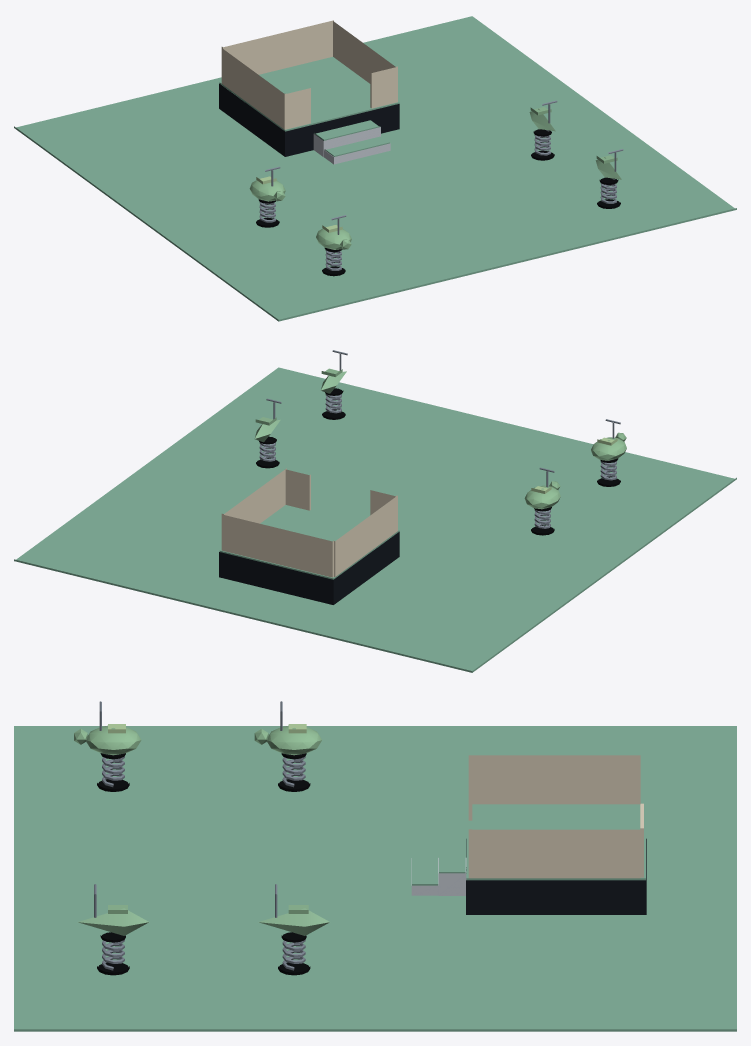
3 views of the same model, one above another, from view 1: azimuth 30°, elevation 25°; view 2: azimuth 150°, elevation 25°; view 3: azimuth 270°, elevation 25° (orthographic). The views are drawn at different scales.
Parts seen in each view (by area): view 1: Safety_Pad, Deck_Guards, Deck_Top, Toddler_Deck, Deck_Steps, Step_Treads, Rider1_Body, Rider3_Body; view 2: Safety_Pad, Deck_Guards, Toddler_Deck, Deck_Top, Rider1_Body, Rider3_Body; view 3: Safety_Pad, Deck_Guards, Toddler_Deck, Deck_Top, Step_Treads, Rider1_Body, Rider3_Body, Deck_Steps, Rider2_Body, Rider4_Body.
Part boxes in pixels (left/top/right/bottom): Safety_Pad: left=14, top=16, right=736, bottom=321; Deck_Guards: left=221, top=20, right=397, bottom=129; Deck_Top: left=219, top=57, right=399, bottom=131; Toddler_Deck: left=219, top=83, right=399, bottom=156; Deck_Steps: left=313, top=127, right=390, bottom=164; Step_Treads: left=314, top=120, right=389, bottom=156; Rider1_Body: left=249, top=180, right=285, bottom=201; Rider3_Body: left=316, top=228, right=351, bottom=249; Safety_Pad: left=14, top=367, right=736, bottom=672; Deck_Guards: left=221, top=468, right=397, bottom=577; Toddler_Deck: left=219, top=531, right=399, bottom=604; Deck_Top: left=219, top=505, right=399, bottom=579; Rider1_Body: left=524, top=481, right=560, bottom=509; Rider3_Body: left=591, top=432, right=626, bottom=460; Safety_Pad: left=14, top=726, right=736, bottom=1031; Deck_Guards: left=468, top=755, right=643, bottom=878; Toddler_Deck: left=466, top=838, right=646, bottom=914; Deck_Top: left=466, top=804, right=645, bottom=880; Step_Treads: left=412, top=836, right=465, bottom=885; Rider1_Body: left=254, top=725, right=321, bottom=755; Rider3_Body: left=74, top=725, right=141, bottom=755; Deck_Steps: left=411, top=858, right=466, bottom=895; Rider2_Body: left=258, top=908, right=329, bottom=935; Rider4_Body: left=77, top=908, right=149, bottom=935.
Size of what is drawn, in the model's own units: 8 by 1.07 by 8.
9 materials, 4 textured.
